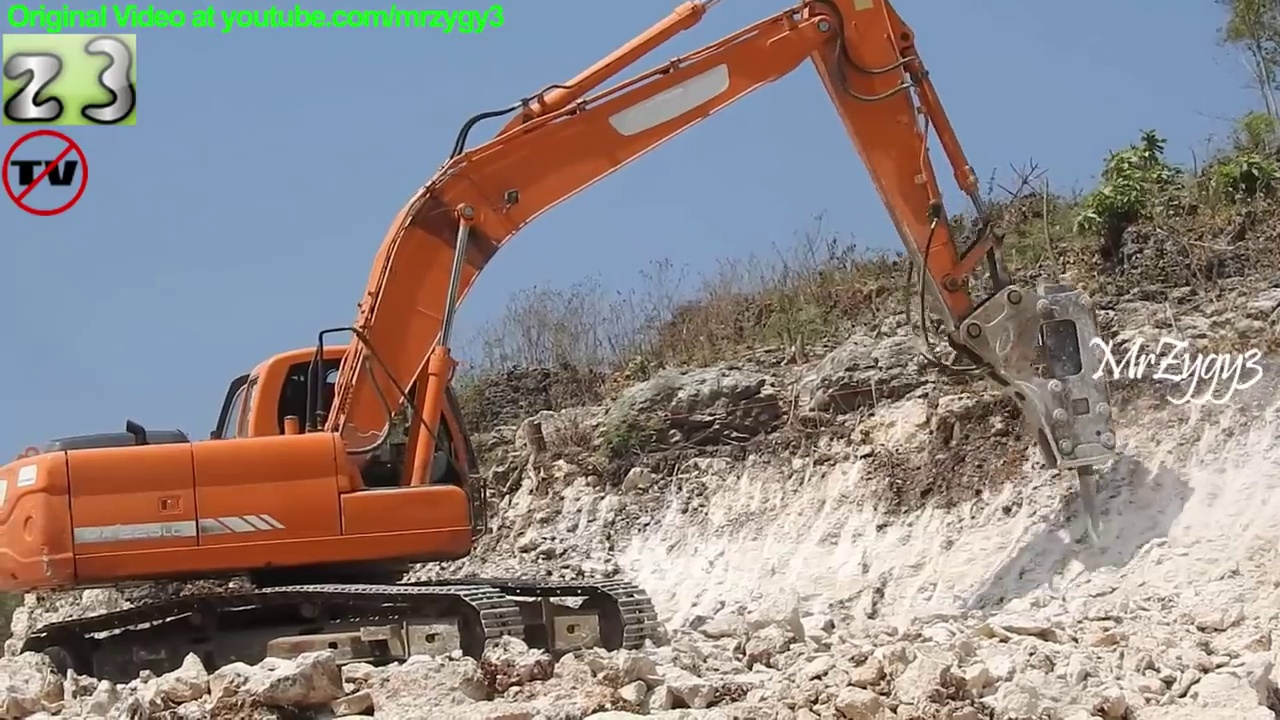excavator breaker: (1, 1, 1127, 710)
